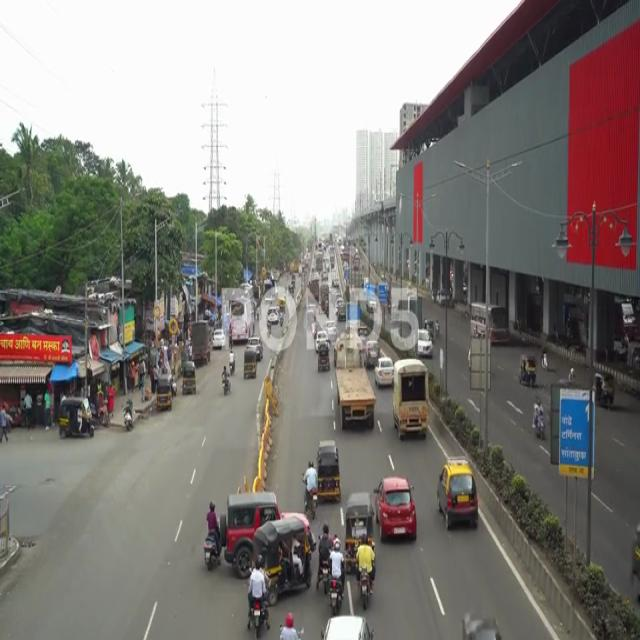car: (434, 458, 475, 536), (375, 478, 417, 547)
motorbike: (245, 549, 269, 640), (204, 487, 226, 571), (356, 526, 376, 616), (329, 538, 349, 618), (299, 452, 322, 519)
truck: (392, 359, 429, 447)
